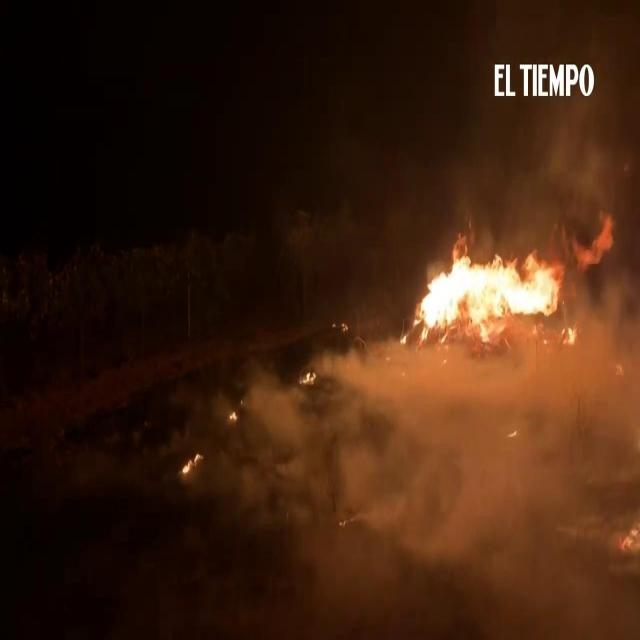Fire: (407, 212, 615, 346), (618, 520, 638, 554), (182, 450, 205, 474), (299, 370, 317, 385), (341, 318, 349, 332), (228, 410, 236, 421), (400, 334, 407, 346)
